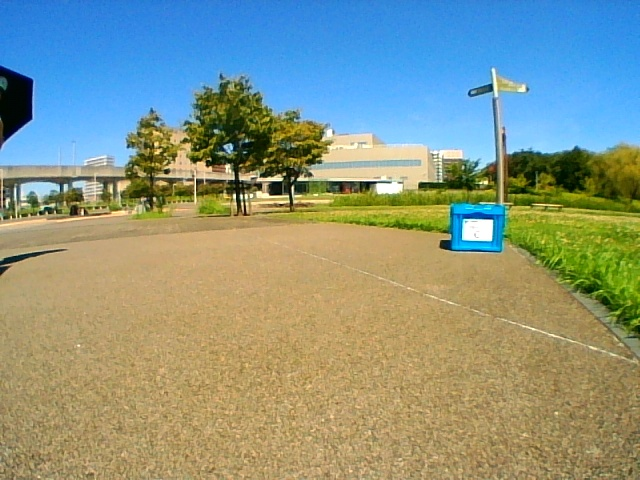blue_box: (450, 204, 504, 251)
tag: (463, 220, 493, 241)
